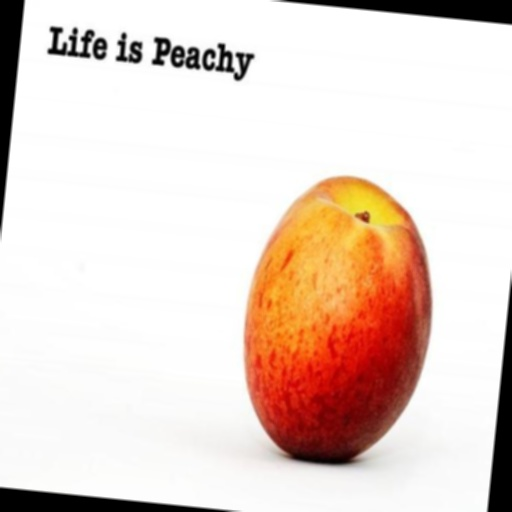fruit: (98, 158, 396, 512)
